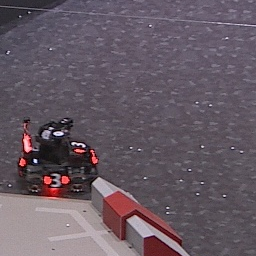Red: (43, 171, 69, 189), (69, 139, 88, 153)
Robot: (16, 113, 100, 197)
